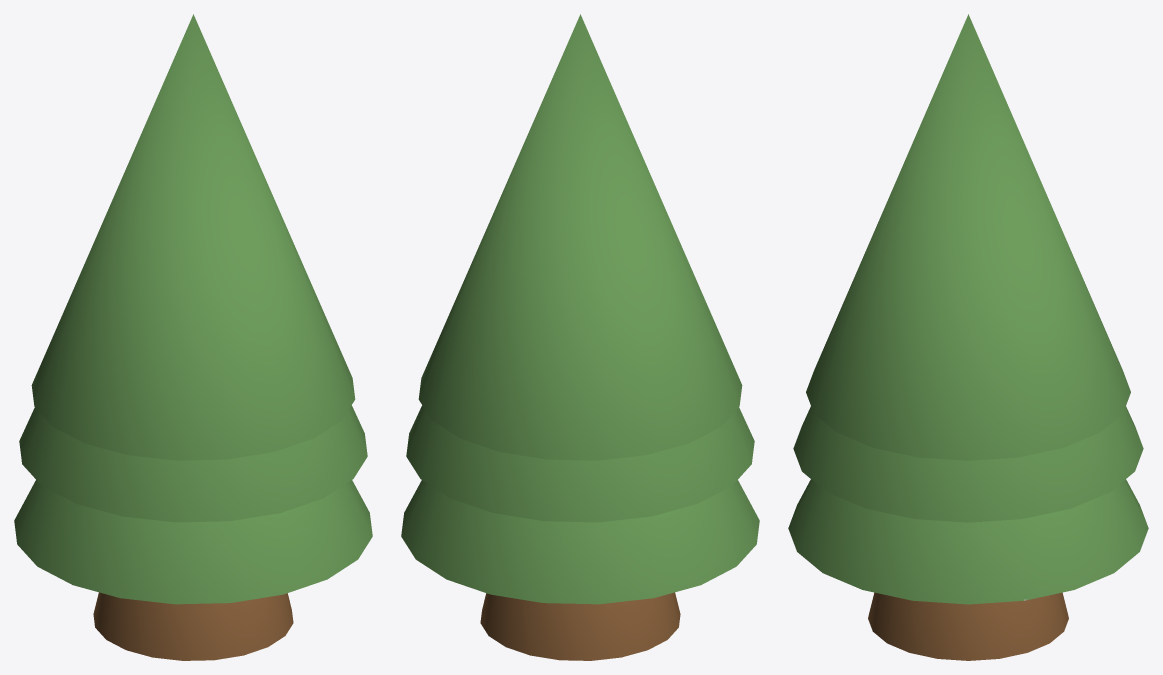
File: Tree.fbx
The picture shows the model from 3 angles, left to right: view 1: azimuth 30°, elevation 25°; view 2: azimuth 150°, elevation 25°; view 3: azimuth 270°, elevation 25°; orthographic projection.
Visible parts, largest first — view 1: pCone12; view 2: pCone12; view 3: pCone12.
Part boxes in pixels (box(x1,y1,x2,y2)): pCone12: box(14, 14, 372, 660); pCone12: box(401, 14, 759, 660); pCone12: box(788, 14, 1148, 660).
Size of the model in its own units: 114 by 211 by 114.
